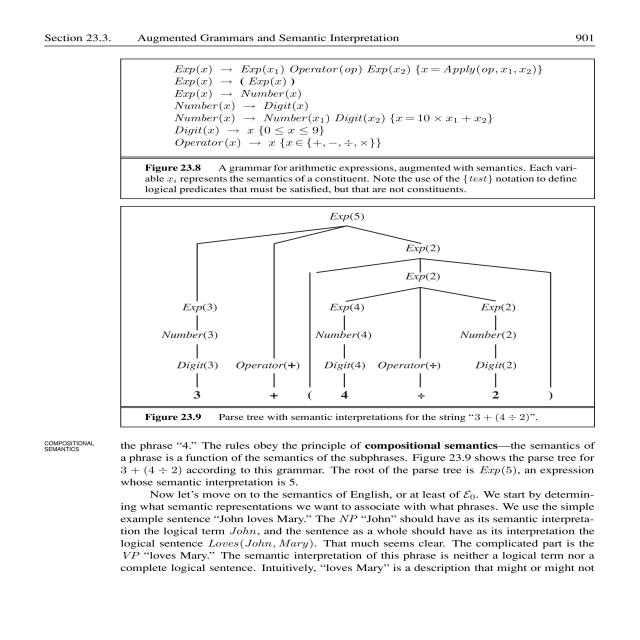diagram: (103, 197, 629, 439)
